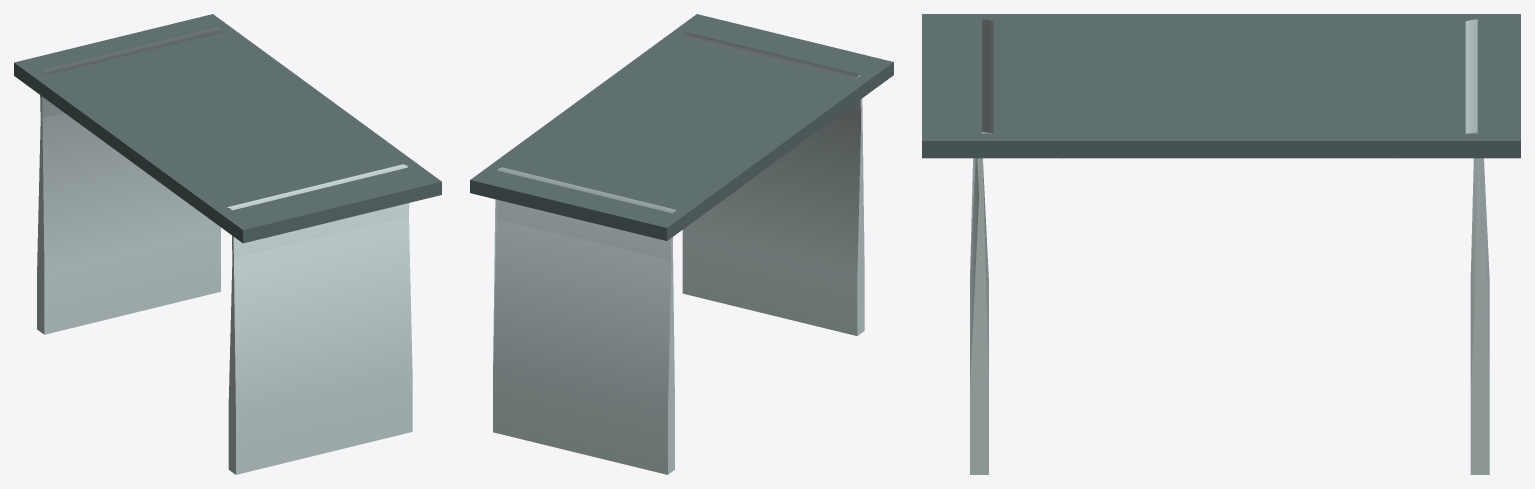
The model's file is Desk 1.fbx.
3 renders of one model, left to right at view 1: azimuth 30°, elevation 25°; view 2: azimuth 150°, elevation 25°; view 3: azimuth 270°, elevation 25°, orthographic. The views are drawn at different scales.
Visible parts, largest first — view 1: pCube9; view 2: pCube9; view 3: pCube9.
Boxes of the visible parts, x1,y1,x2,y2 form: pCube9: [14, 14, 441, 474]; pCube9: [470, 14, 893, 474]; pCube9: [922, 14, 1520, 474].
Bounding box in the file's own units: 2.66 × 3.35 × 5.3.
1 material, 1 textured.
